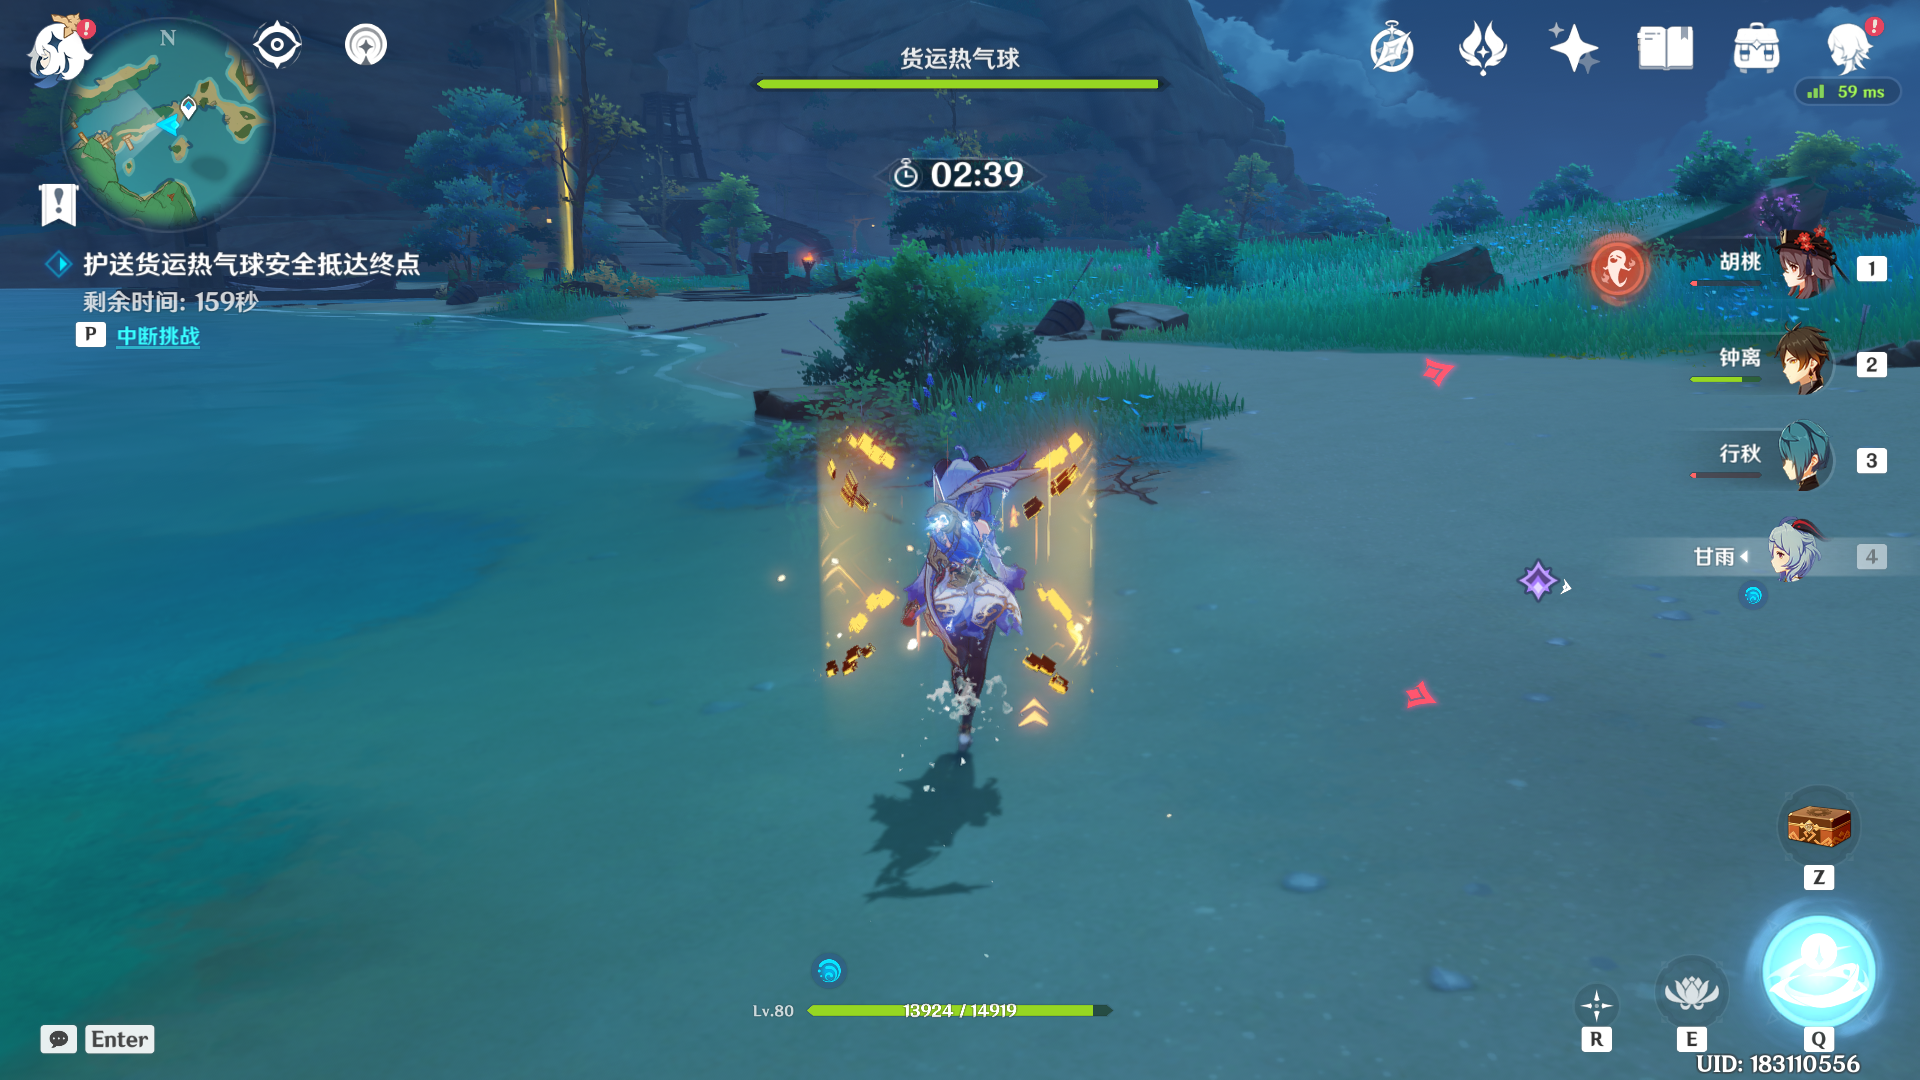character: (804, 394, 1109, 771)
